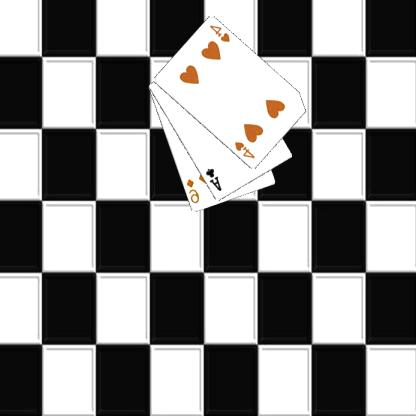4H: (234, 139, 258, 160), (209, 23, 233, 44)
9D: (185, 176, 202, 205)
AC: (204, 166, 225, 192)
